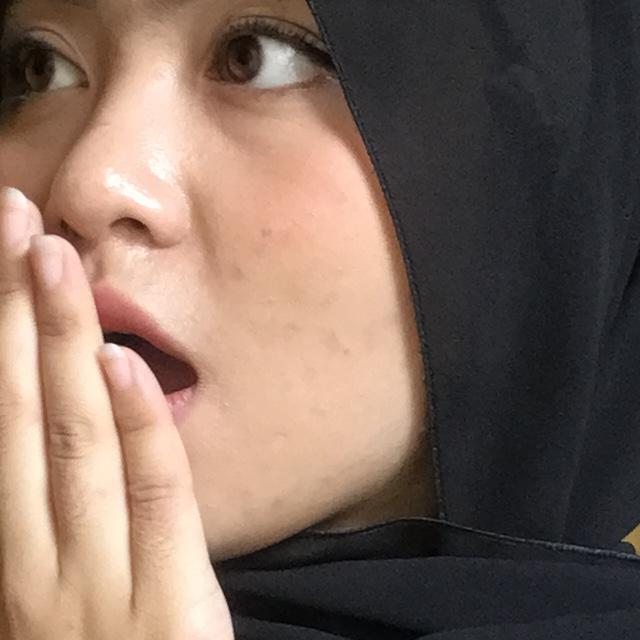ngantuk: (0, 96, 350, 640)
